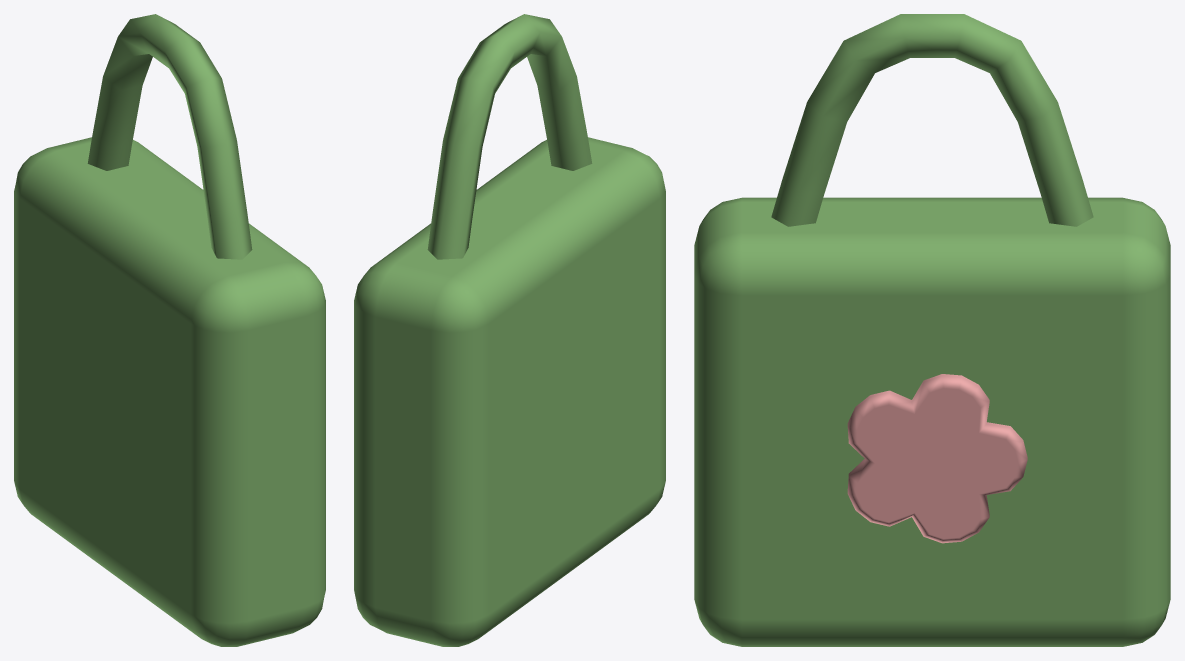
Rendered from flower_print_eco_bag.glb.
3 renders of one model, left to right at view 1: azimuth 30°, elevation 25°; view 2: azimuth 150°, elevation 25°; view 3: azimuth 270°, elevation 25°, orthographic. The views are drawn at different scales.
Parts seen in each view (by area): view 1: flower_print_eco_bag_ArmR; view 2: flower_print_eco_bag_ArmR; view 3: flower_print_eco_bag_ArmR.
Boxes of the visible parts, <box> form: flower_print_eco_bag_ArmR: <box>14,14,325,646</box>; flower_print_eco_bag_ArmR: <box>354,14,665,646</box>; flower_print_eco_bag_ArmR: <box>694,14,1170,646</box>.
Size of the model in its own units: 0.076 by 0.2842 by 0.2.
